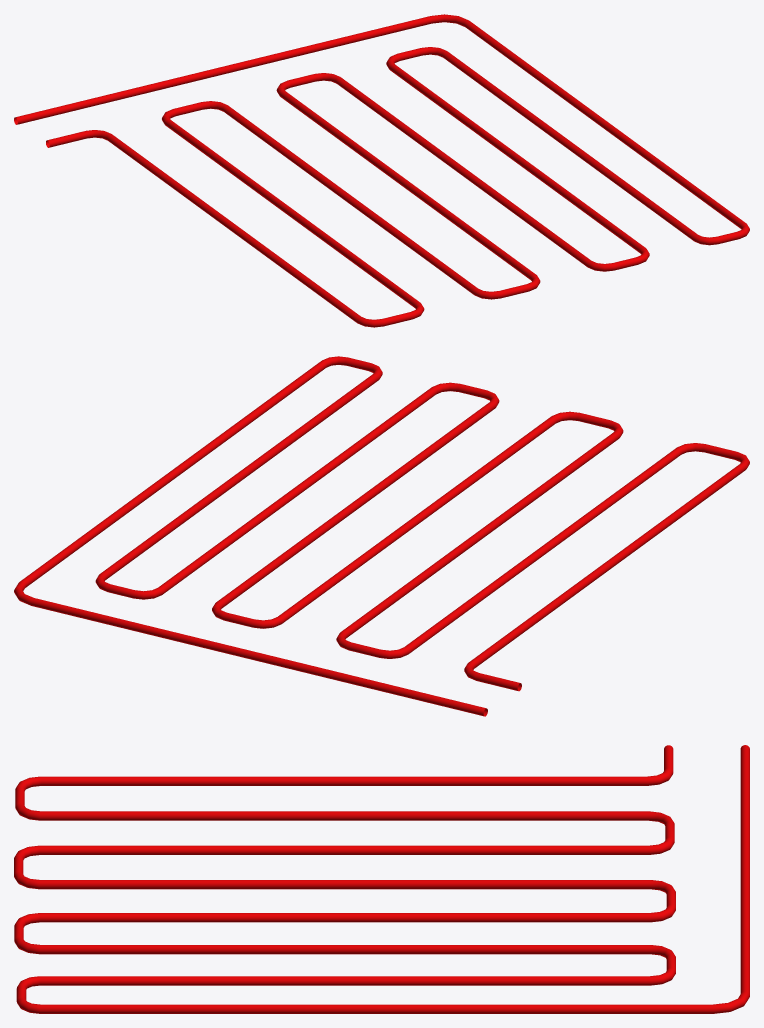
The model's file is Infloor Heating Pipes.fbx.
The picture shows the model from 3 angles, top to bottom: view 1: azimuth 30°, elevation 25°; view 2: azimuth 150°, elevation 25°; view 3: azimuth 270°, elevation 25°; orthographic projection. The views are drawn at different scales.
Visible parts, largest first — view 1: Infloor Heating Pipe; view 2: Infloor Heating Pipe; view 3: Infloor Heating Pipe.
Boxes of the visible parts, bbox=[...] form: Infloor Heating Pipe: bbox=[14, 14, 749, 327]; Infloor Heating Pipe: bbox=[14, 356, 749, 716]; Infloor Heating Pipe: bbox=[14, 745, 749, 1013].
Bounding box in the file's own units: 355 × 5.42 × 422.
